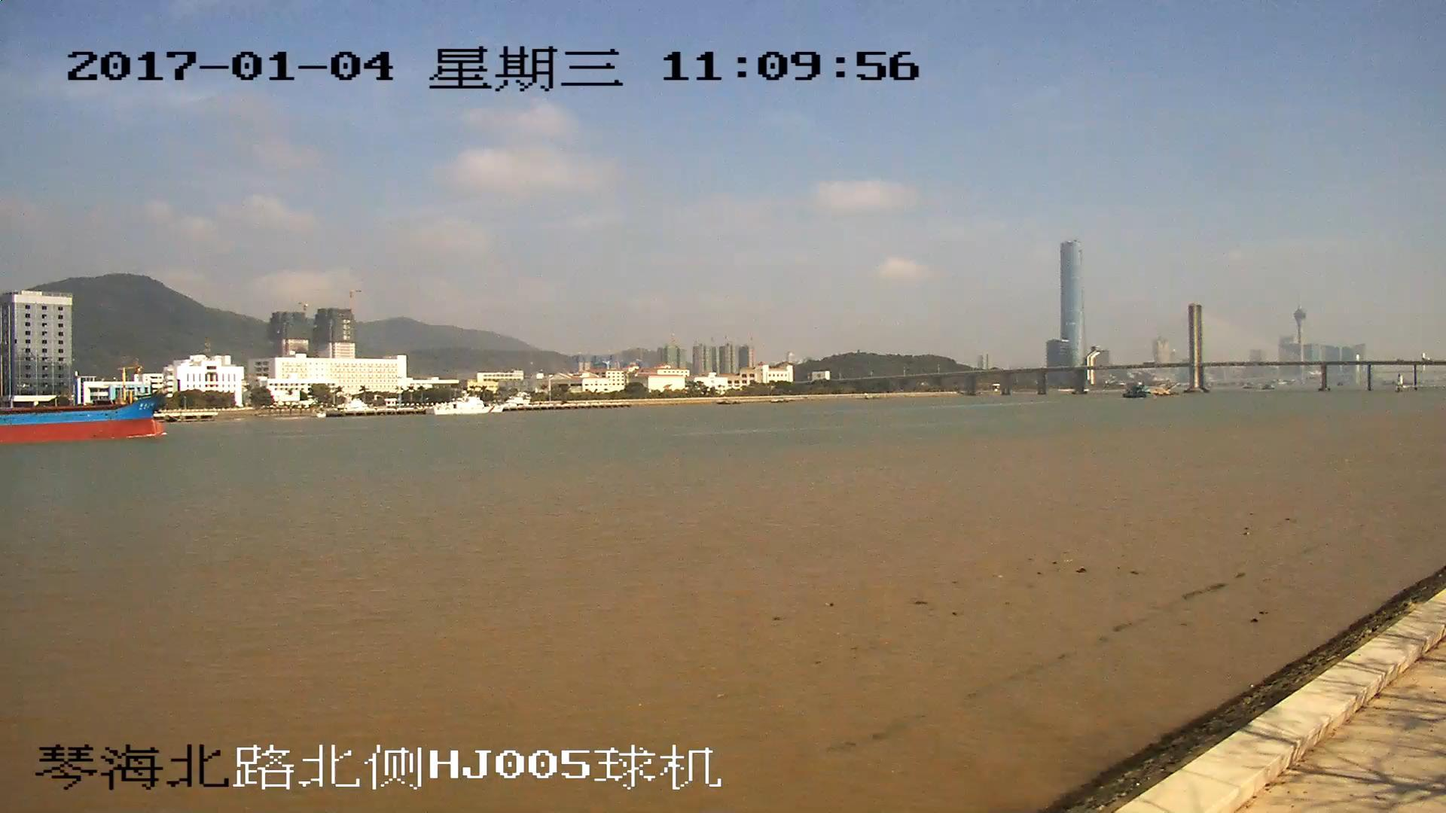general cargo ship: (0, 388, 168, 441)
